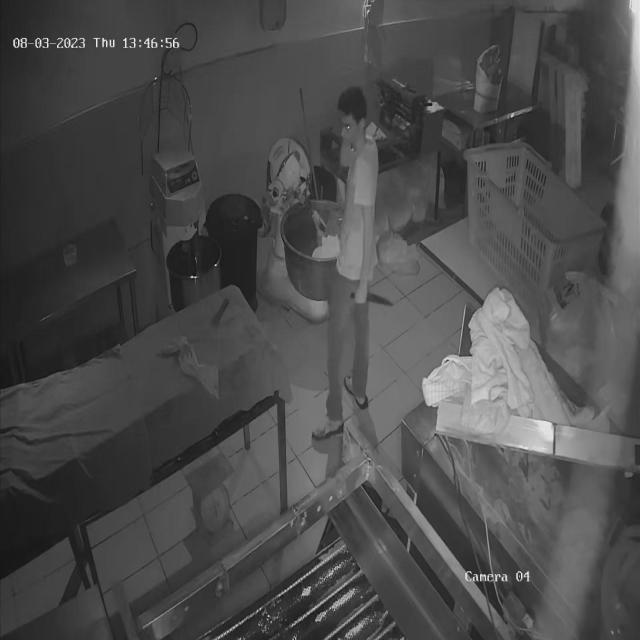Knife: (346, 286, 406, 321)
